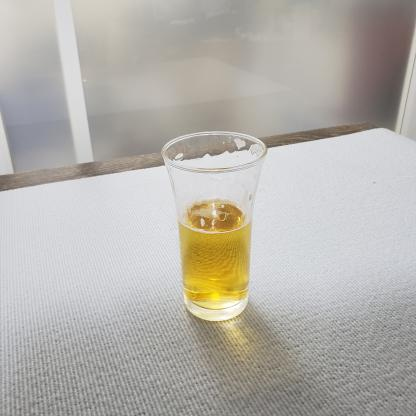glass: (156, 123, 292, 341)
